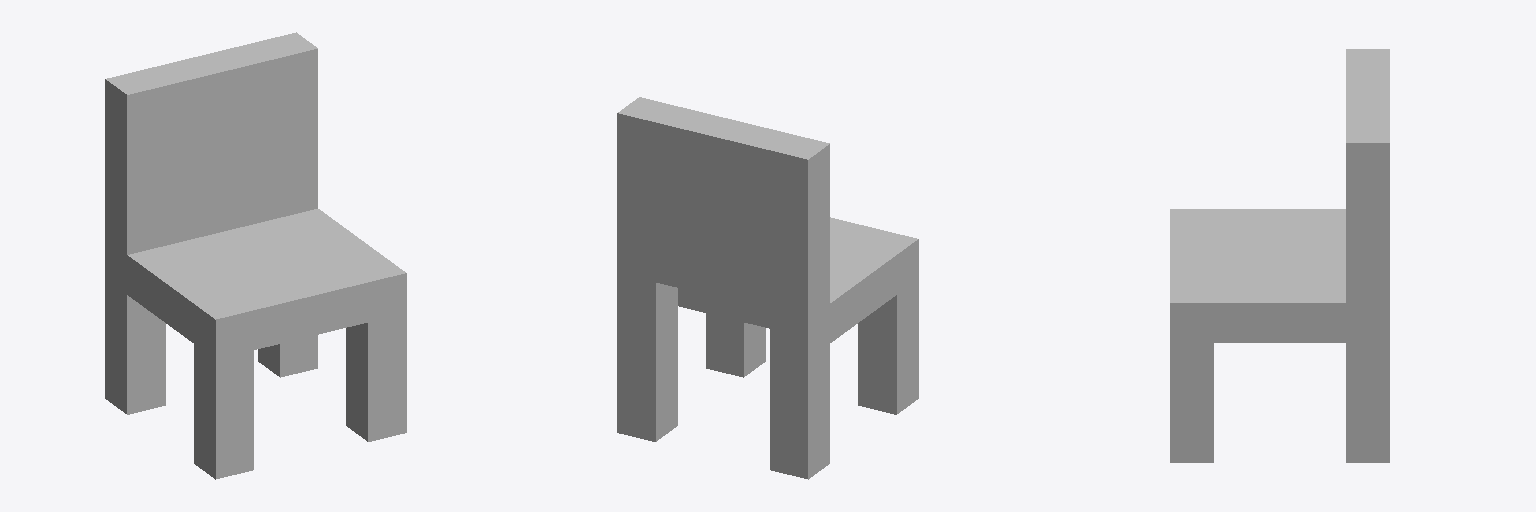
File: chair.obj
3 renders of one model, left to right at view 1: azimuth 30°, elevation 25°; view 2: azimuth 150°, elevation 25°; view 3: azimuth 270°, elevation 25°, orthographic.
Bounding box in the file's own units: 5 × 8 × 5.